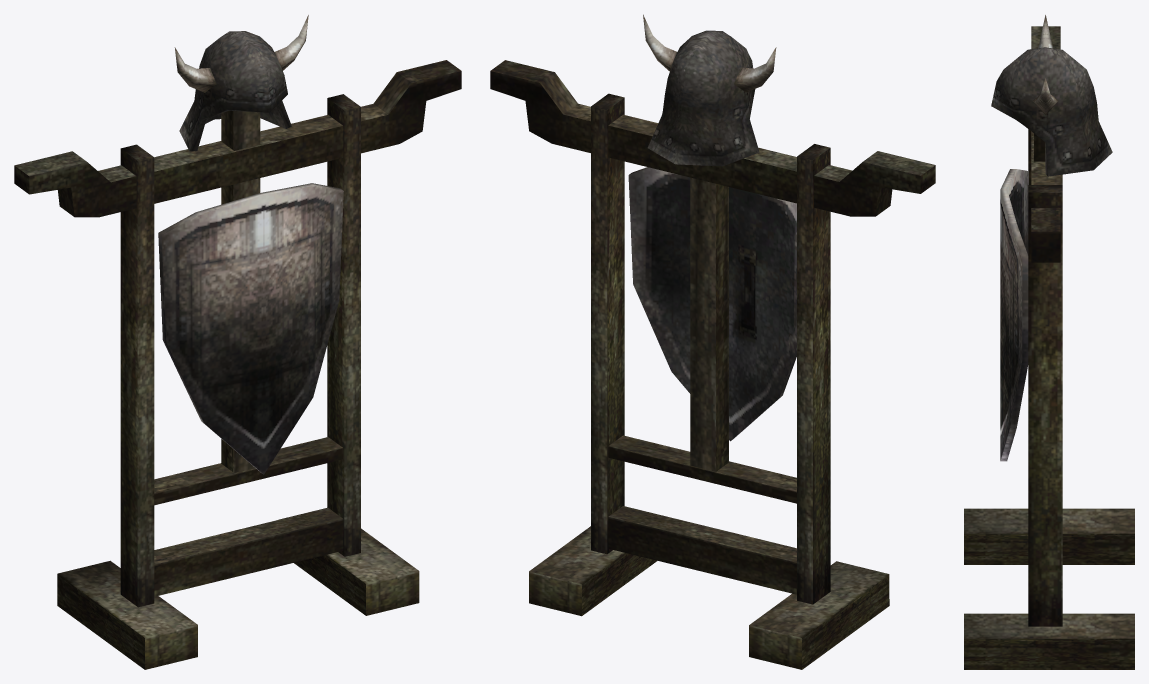
File: ep_b_general_obj_30.fbx
The picture shows the model from 3 angles, left to right: view 1: azimuth 30°, elevation 25°; view 2: azimuth 150°, elevation 25°; view 3: azimuth 270°, elevation 25°; orthographic projection. The views are drawn at different scales.
Parts seen in each view (by area): view 1: ep_B_general_obj_30; view 2: ep_B_general_obj_30; view 3: ep_B_general_obj_30.
Part boxes in pixels (x1,y1,x2,y2): ep_B_general_obj_30: [14, 15, 461, 669]; ep_B_general_obj_30: [490, 14, 935, 669]; ep_B_general_obj_30: [964, 15, 1134, 669].
Bounding box in the file's own units: 1.94 × 2.46 × 0.6819.
